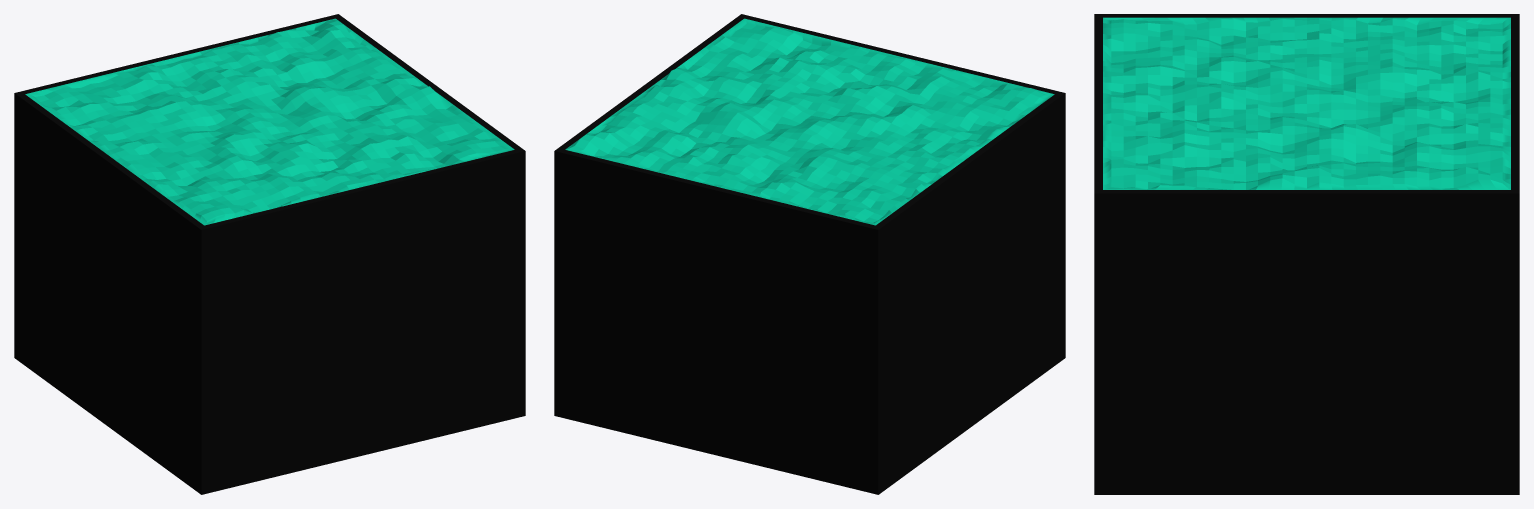
File: water.obj
3 views of the same model, side by side, from view 1: azimuth 30°, elevation 25°; view 2: azimuth 150°, elevation 25°; view 3: azimuth 270°, elevation 25° (orthographic). The views are drawn at different scales.
Visible parts, largest first — view 1: Cube; view 2: Cube; view 3: Cube.
Boxes of the visible parts, x1,y1,x2,y2 form: Cube: (14, 14, 525, 494); Cube: (554, 14, 1065, 494); Cube: (1094, 14, 1519, 494).
Size of the model in its own units: 2.09 by 1.68 by 2.09.
